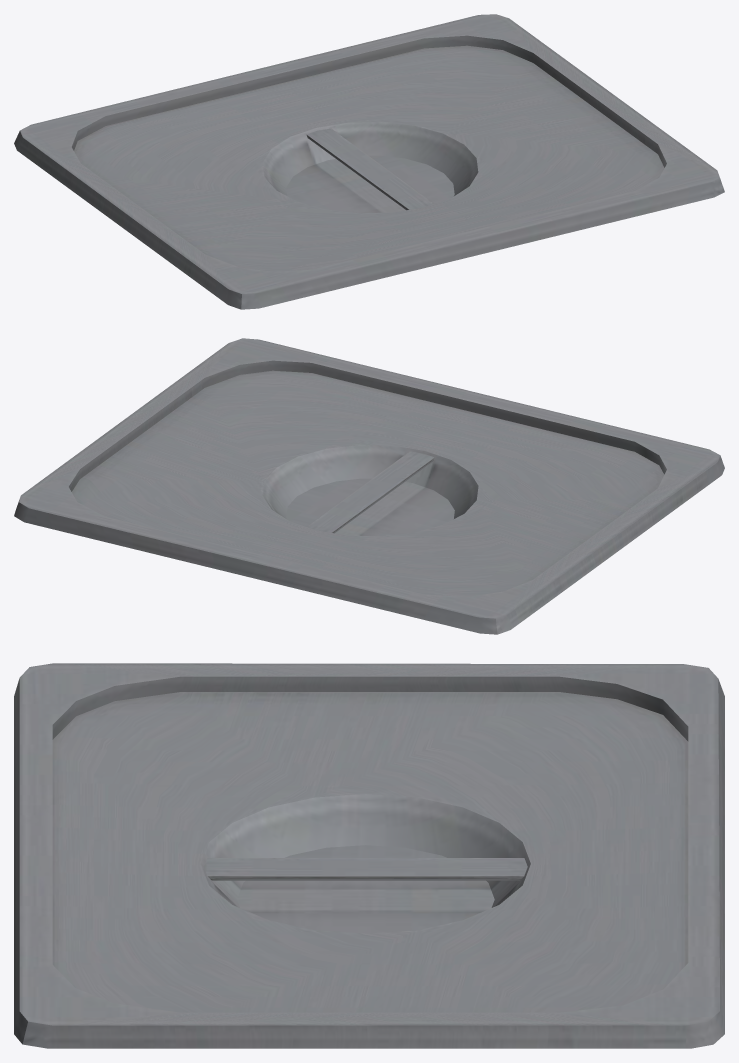
File: SM_Hotel_Pan_1_2_Lid_01.glb
The picture shows the model from 3 angles, top to bottom: view 1: azimuth 30°, elevation 25°; view 2: azimuth 150°, elevation 25°; view 3: azimuth 270°, elevation 25°; orthographic projection. The views are drawn at different scales.
Parts seen in each view (by area): view 1: SM_Hotel_Pan_1_2_Lid_01; view 2: SM_Hotel_Pan_1_2_Lid_01; view 3: SM_Hotel_Pan_1_2_Lid_01.
Boxes of the visible parts, box(x1,y1,x2,y2) form: SM_Hotel_Pan_1_2_Lid_01: box(14, 14, 724, 309); SM_Hotel_Pan_1_2_Lid_01: box(14, 338, 724, 634); SM_Hotel_Pan_1_2_Lid_01: box(14, 663, 724, 1048).
Size of the model in its own units: 0.33 by 0.0255 by 0.2704.
1 material, 1 textured.
